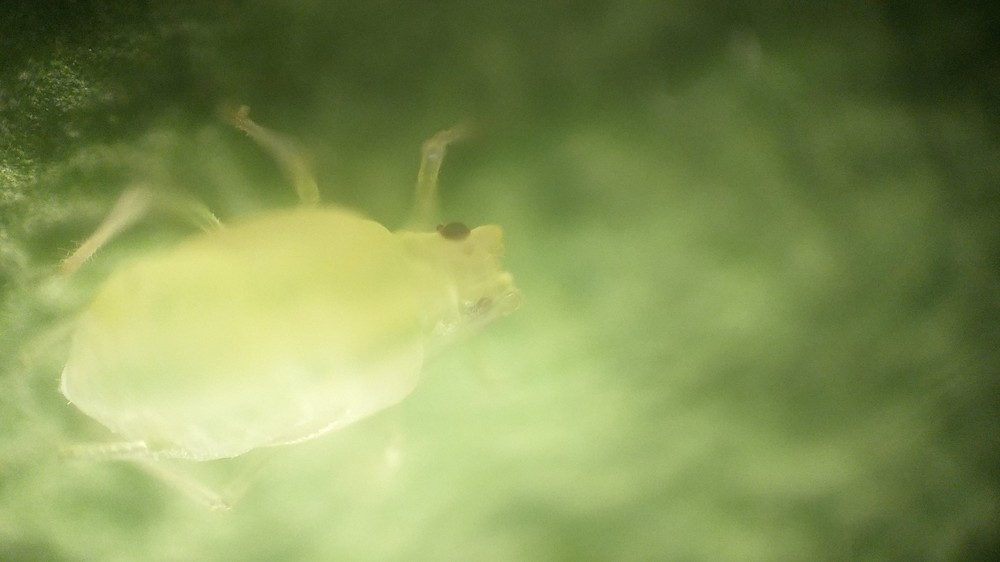Pulgon: (44, 106, 564, 537)
